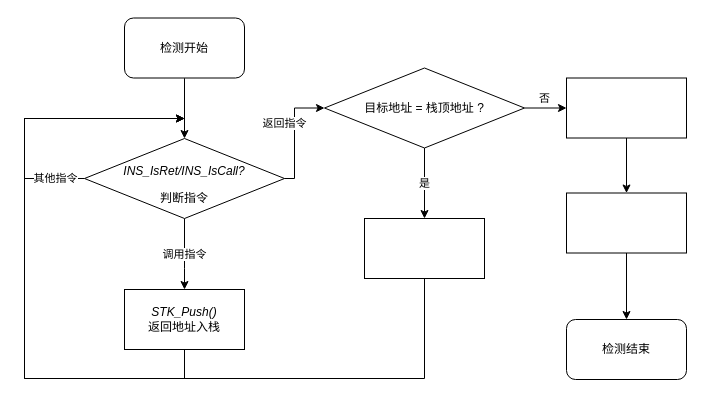
This 704x404 diagram has some shape labels left out. Each missing label, with the centre of its shape:
"STK_Pop() 返回地址出栈" goes at [424,248].
"标记程序被攻击" goes at [626,107].
"记录攻击信息" goes at [626,222].
